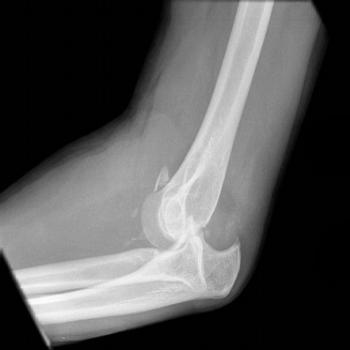Fracture: (202, 189, 246, 266)
